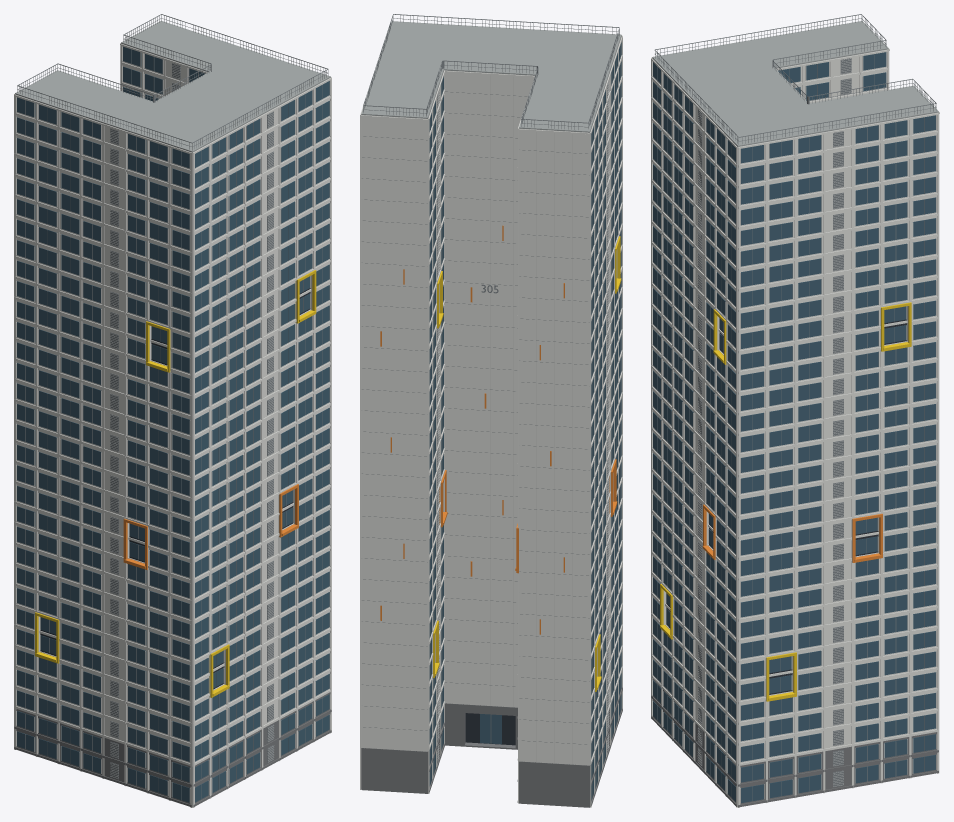
File: bespoke-songpa-helio-city-305.glb
The picture shows the model from 3 angles, left to right: view 1: azimuth 30°, elevation 25°; view 2: azimuth 150°, elevation 25°; view 3: azimuth 270°, elevation 25°; orthographic projection. The views are drawn at different scales.
Parts seen in each view (by area): view 1: Helio305_editable_Helio305_dark_blue_grey_glazing, Helio305_editable_Helio305_white_slab_frames, Helio305_editable_Helio305_grey_service_grille, Helio305_editable_Helio305_low_roof_deck, Helio305_editable_Helio305_dark_grey_twofloor_base, Helio305_editable_Helio305_blankwall_grey_panels, Helio305_editable_Helio305_yellow_projecting_rectangular_fra, Helio305_editable_Helio305_orange_narrow_accent; view 2: Helio305_editable_Helio305_white_slab_frames, Helio305_editable_Helio305_low_roof_deck, Helio305_editable_Helio305_dark_blue_grey_glazing, Helio305_editable_Helio305_grey_service_grille, Helio305_editable_Helio305_dark_grey_twofloor_base, Helio305_editable_Helio305_blankwall_grey_panels, Helio305_editable_Helio305_orange_narrow_accent, Helio305_editable_Helio305_yellow_projecting_rectangular_fra, Helio305_editable_Helio305_deep_shaded_frame_recess; view 3: Helio305_editable_Helio305_dark_blue_grey_glazing, Helio305_editable_Helio305_white_slab_frames, Helio305_editable_Helio305_grey_service_grille, Helio305_editable_Helio305_low_roof_deck, Helio305_editable_Helio305_dark_grey_twofloor_base, Helio305_editable_Helio305_blankwall_grey_panels, Helio305_editable_Helio305_yellow_projecting_rectangular_fra, Helio305_editable_Helio305_orange_narrow_accent.
Part boxes in pixels (left/top/right/bottom): Helio305_editable_Helio305_dark_blue_grey_glazing: left=17, top=46, right=329, bottom=802; Helio305_editable_Helio305_white_slab_frames: left=14, top=43, right=331, bottom=807; Helio305_editable_Helio305_grey_service_grille: left=17, top=14, right=328, bottom=799; Helio305_editable_Helio305_low_roof_deck: left=15, top=21, right=330, bottom=152; Helio305_editable_Helio305_dark_grey_twofloor_base: left=14, top=692, right=331, bottom=807; Helio305_editable_Helio305_blankwall_grey_panels: left=110, top=63, right=273, bottom=778; Helio305_editable_Helio305_yellow_projecting_rectangular_fra: left=35, top=270, right=316, bottom=697; Helio305_editable_Helio305_orange_narrow_accent: left=123, top=484, right=298, bottom=569; Helio305_editable_Helio305_white_slab_frames: left=360, top=22, right=622, bottom=807; Helio305_editable_Helio305_low_roof_deck: left=361, top=21, right=621, bottom=132; Helio305_editable_Helio305_dark_blue_grey_glazing: left=429, top=42, right=621, bottom=800; Helio305_editable_Helio305_grey_service_grille: left=362, top=14, right=620, bottom=797; Helio305_editable_Helio305_dark_grey_twofloor_base: left=361, top=687, right=622, bottom=807; Helio305_editable_Helio305_blankwall_grey_panels: left=437, top=75, right=609, bottom=764; Helio305_editable_Helio305_orange_narrow_accent: left=380, top=225, right=617, bottom=634; Helio305_editable_Helio305_yellow_projecting_rectangular_fra: left=432, top=236, right=621, bottom=691; Helio305_editable_Helio305_deep_shaded_frame_recess: left=465, top=713, right=515, bottom=745; Helio305_editable_Helio305_dark_blue_grey_glazing: left=653, top=52, right=935, bottom=803; Helio305_editable_Helio305_white_slab_frames: left=651, top=22, right=939, bottom=807; Helio305_editable_Helio305_grey_service_grille: left=654, top=14, right=936, bottom=800; Helio305_editable_Helio305_low_roof_deck: left=652, top=21, right=938, bottom=146; Helio305_editable_Helio305_dark_grey_twofloor_base: left=651, top=679, right=938, bottom=807; Helio305_editable_Helio305_blankwall_grey_panels: left=698, top=58, right=851, bottom=786; Helio305_editable_Helio305_yellow_projecting_rectangular_fra: left=660, top=302, right=911, bottom=701; Helio305_editable_Helio305_orange_narrow_accent: left=702, top=504, right=882, bottom=562.
Size of the model in its own units: 36.59 by 90.6 by 35.42.
